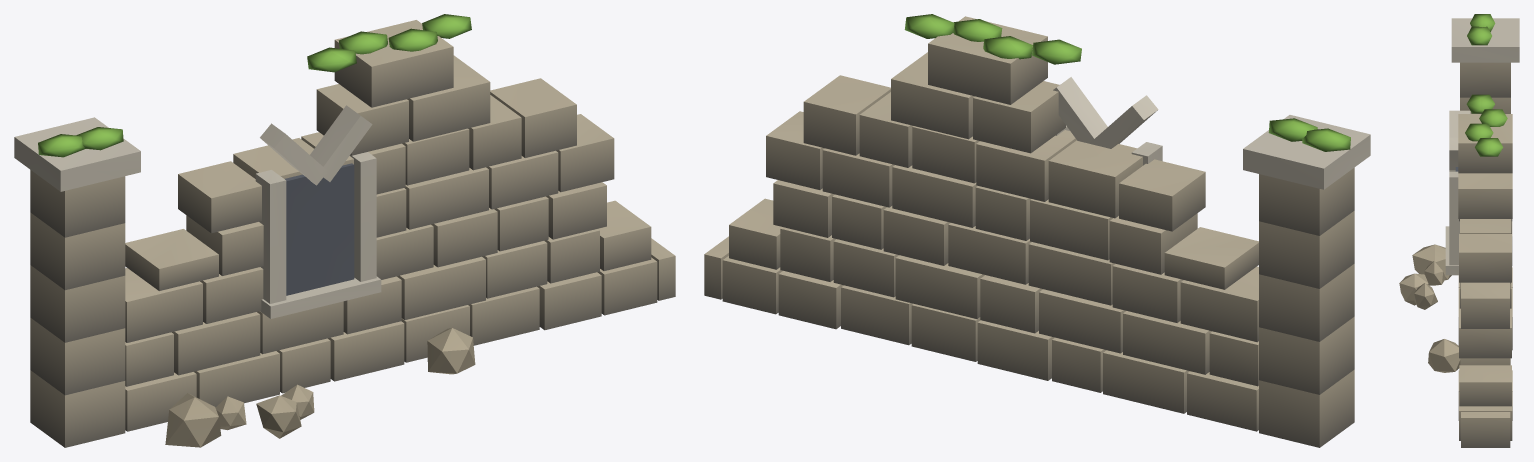
The model's file is ruin_wall.glb.
3 views of the same model, side by side, from view 1: azimuth 30°, elevation 25°; view 2: azimuth 150°, elevation 25°; view 3: azimuth 270°, elevation 25° (orthographic). The views are drawn at different scales.
Visible parts, largest first — view 1: Wall; view 2: Wall; view 3: Wall.
Part boxes in pixels (<box>): Wall: <box>14,14,675,447</box>; Wall: <box>704,14,1370,447</box>; Wall: <box>1399,14,1519,447</box>.
Bounding box in the file's own units: 6.19 × 3.15 × 1.41.
